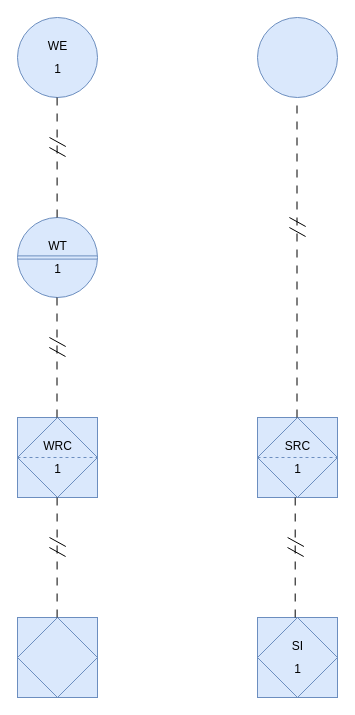
Some shapes in this 355 by 715 pixel diagram are drawn without their labels. Here are the shapes that lost their labels. From the top down, the centre of each, then its label:
At point 297,57: "SE 1".
At point 57,657: "WI 1".
